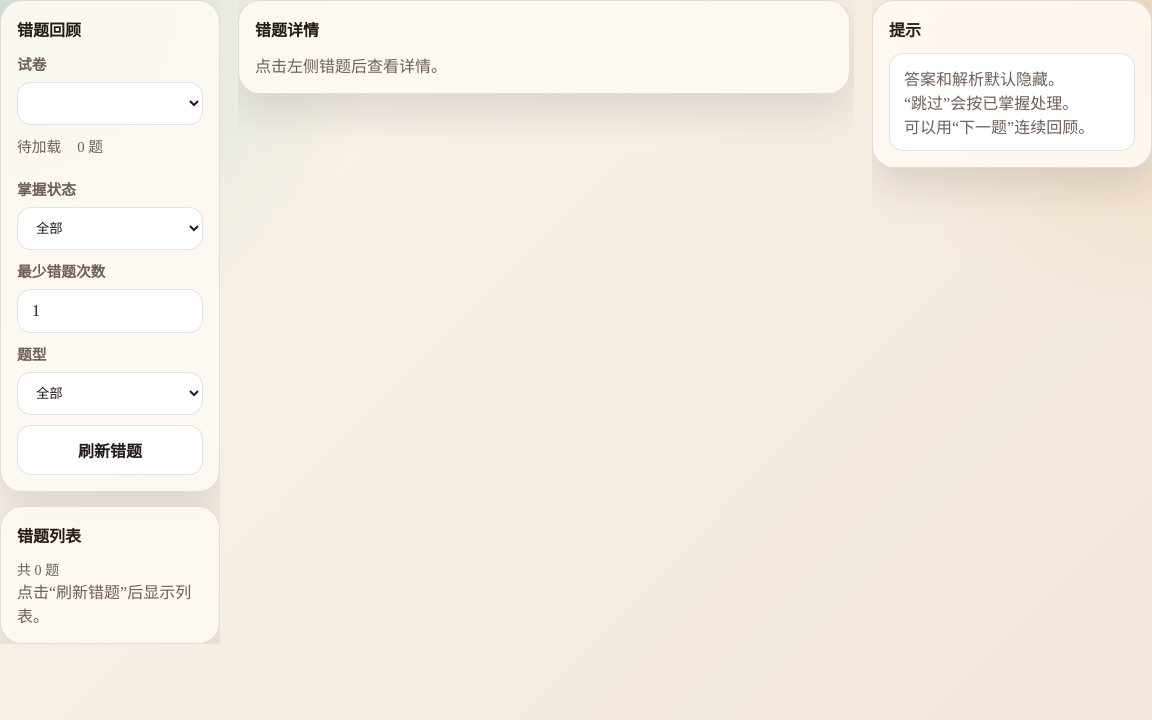
it: 错题回顾可打开详情并显示答案
Expected: the text "错题回顾" is shown, [17,22,81,39]
What coordinates should you click on to do the following:
click the button "刷新错题"
I would click on:
 (110, 450)
Its box is [17,425,203,475].
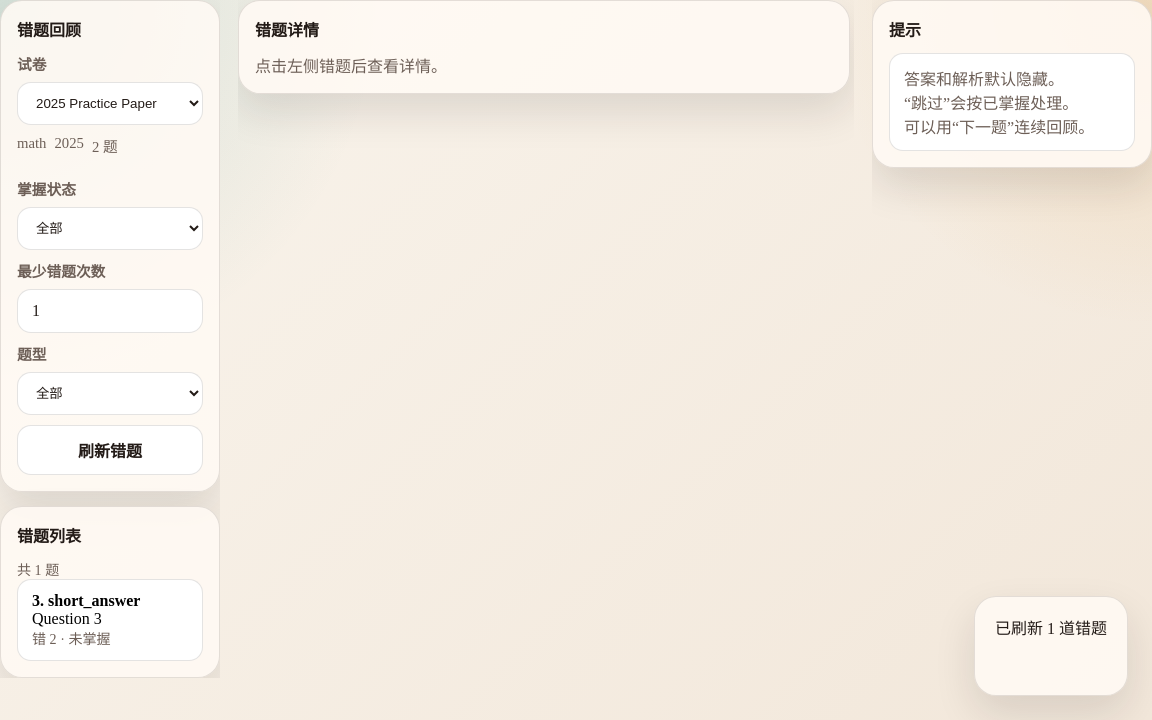
Expected: the text "Question 3" is shown, [32,610,102,627]
What coordinates should you click on to do the following:
click the button "3. short_answer Question 3 错 2 · 未掌握"
I would click on:
 (110, 620)
Its box is [17,579,203,661].
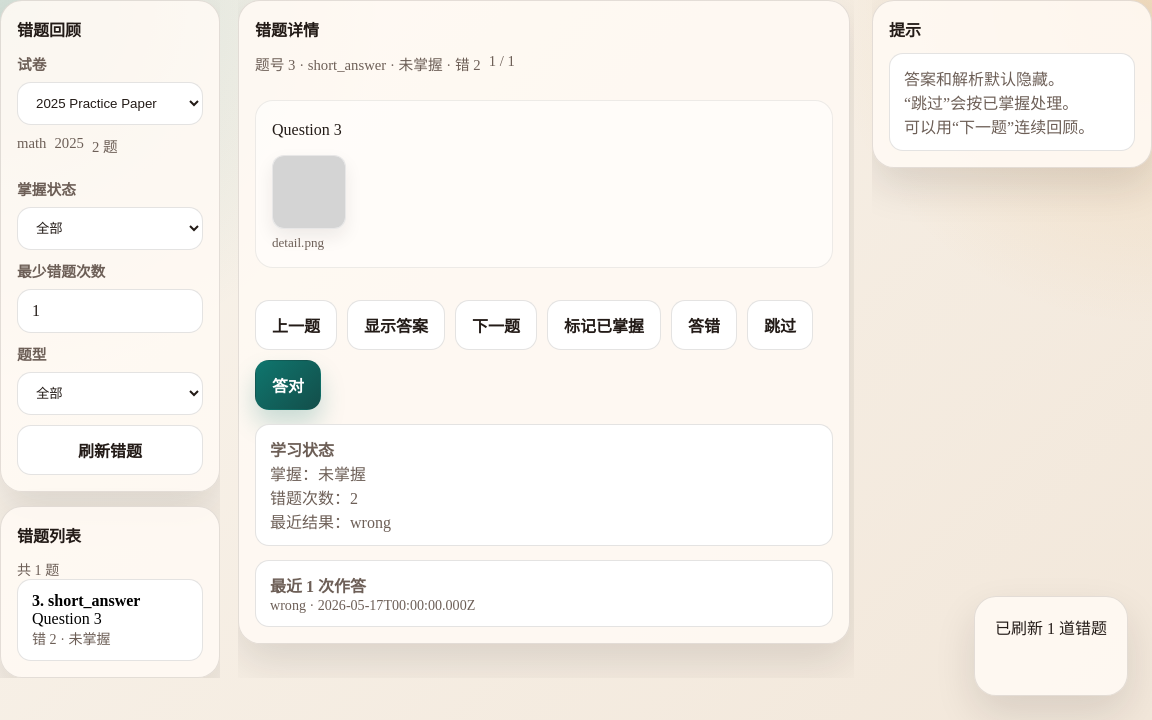
What coordinates should you click on to do the following:
click the button "显示答案"
I would click on:
 (396, 325)
Its box is [347,300,445,350].
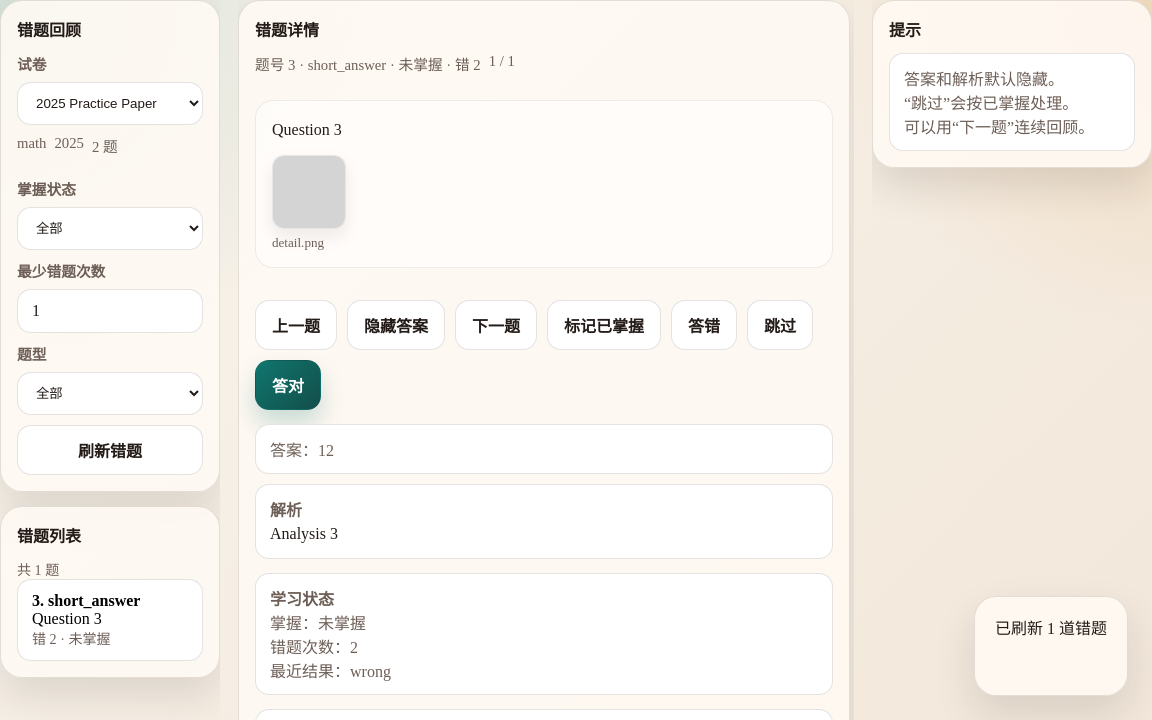
Expected: the text "答案：12" is shown, [270,442,334,459]
Expected: the text "解析" is shown, [270,502,302,519]
Expected: the text "Analysis 3" is shown, [270,525,338,542]
